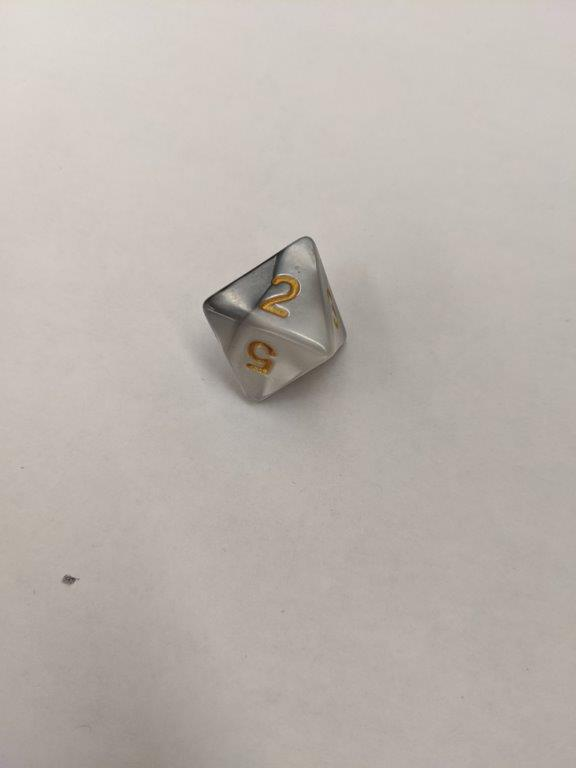d8-2: (201, 236, 346, 404)
